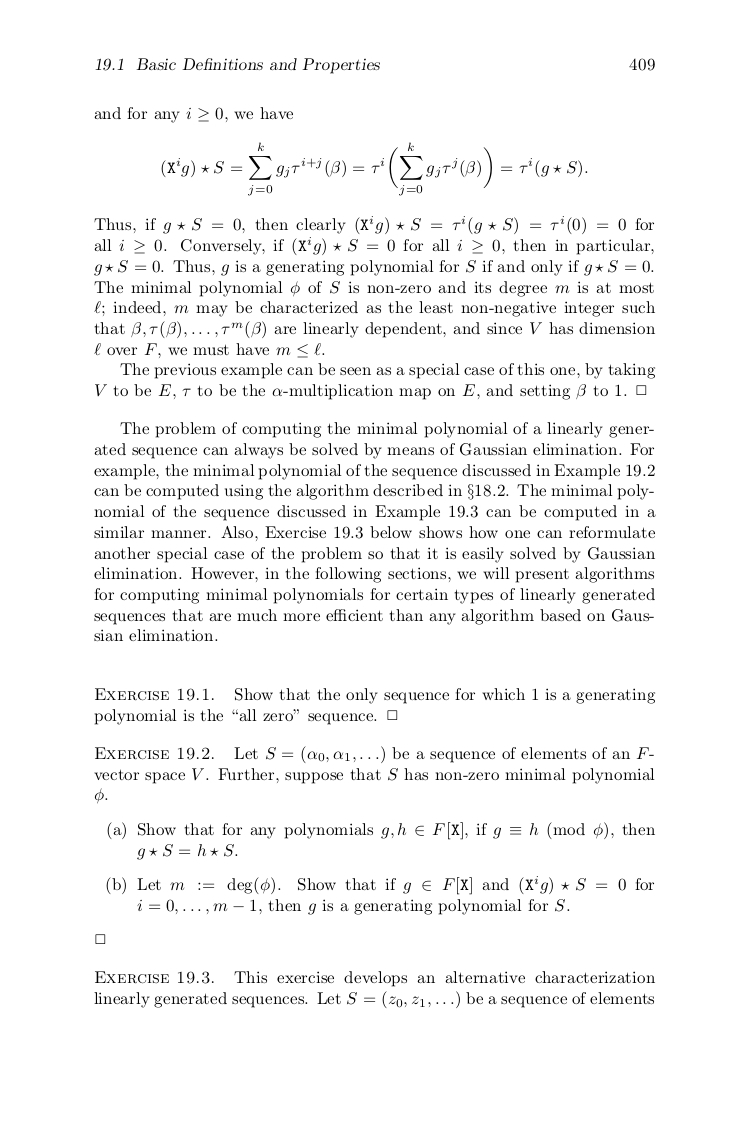formula: (161, 141, 587, 196)
